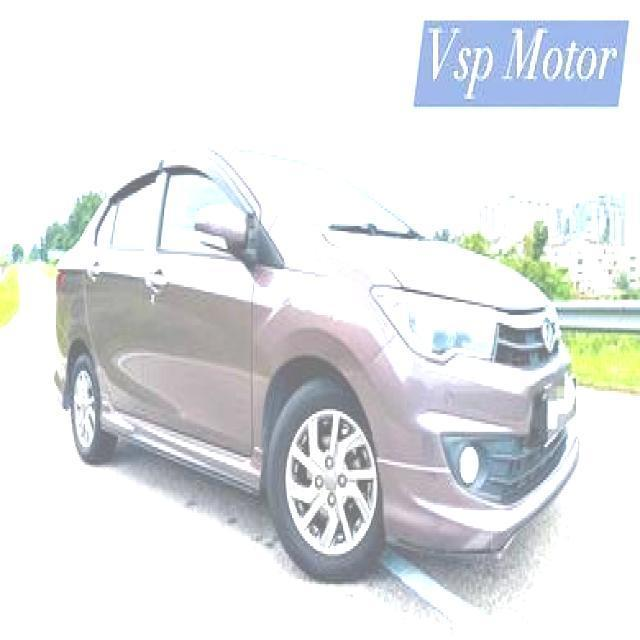PeroduaBezza: (52, 144, 581, 582)
